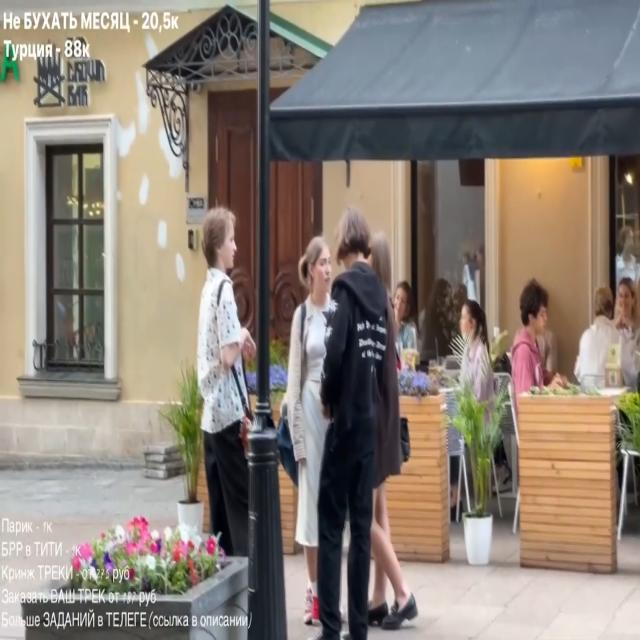Person: (304, 230, 426, 640), (277, 230, 344, 628), (193, 200, 258, 588), (575, 281, 640, 389), (510, 282, 570, 395), (450, 303, 497, 394), (392, 282, 422, 369)
